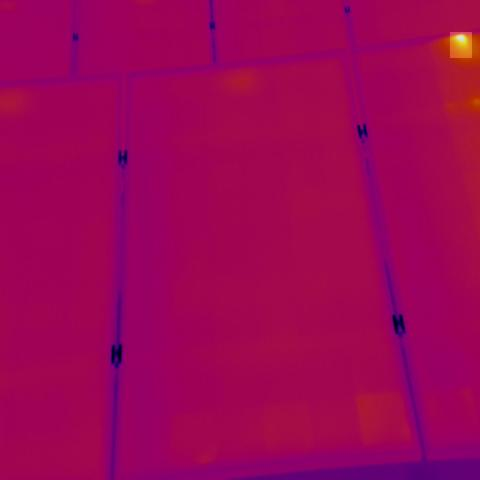fault: (450, 32, 472, 58)
